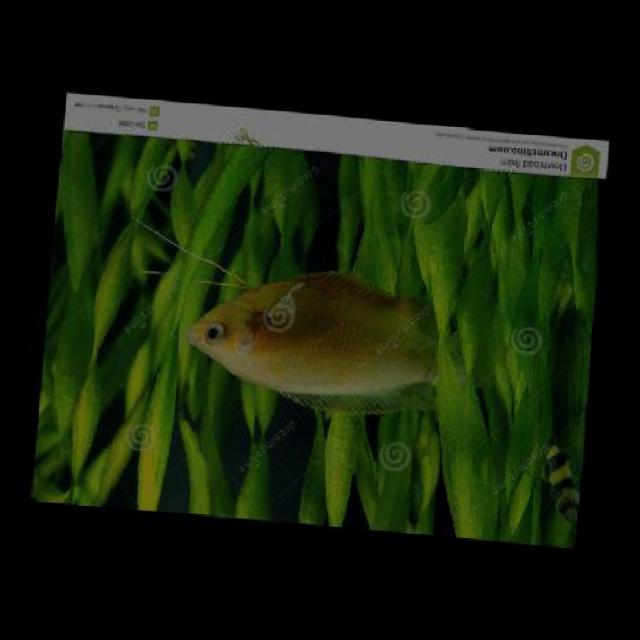Gourami: (174, 262, 478, 425)
